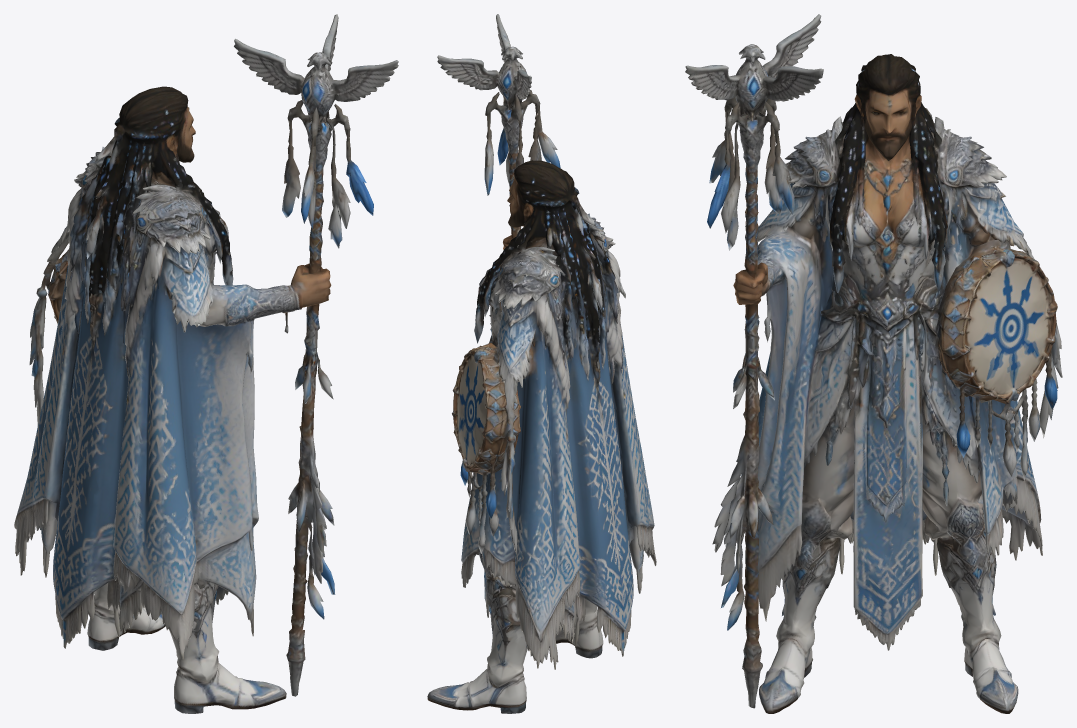
The model's file is drumcalleralt_T7-tripo.glb.
The picture shows the model from 3 angles, left to right: view 1: azimuth 30°, elevation 25°; view 2: azimuth 150°, elevation 25°; view 3: azimuth 270°, elevation 25°; orthographic projection. The views are drawn at different scales.
Parts seen in each view (by area): view 1: tripo_node_376477a1-f966-4ffe-a13f-66a712a01a6b; view 2: tripo_node_376477a1-f966-4ffe-a13f-66a712a01a6b; view 3: tripo_node_376477a1-f966-4ffe-a13f-66a712a01a6b.
Boxes of the visible parts, x1=… form: tripo_node_376477a1-f966-4ffe-a13f-66a712a01a6b: x1=14, y1=14, x2=398, y2=713; tripo_node_376477a1-f966-4ffe-a13f-66a712a01a6b: x1=427, y1=14, x2=656, y2=713; tripo_node_376477a1-f966-4ffe-a13f-66a712a01a6b: x1=685, y1=14, x2=1062, y2=713.
Size of the model in its own units: 0.3948 by 1 by 0.4975.
1 material, 1 textured.
